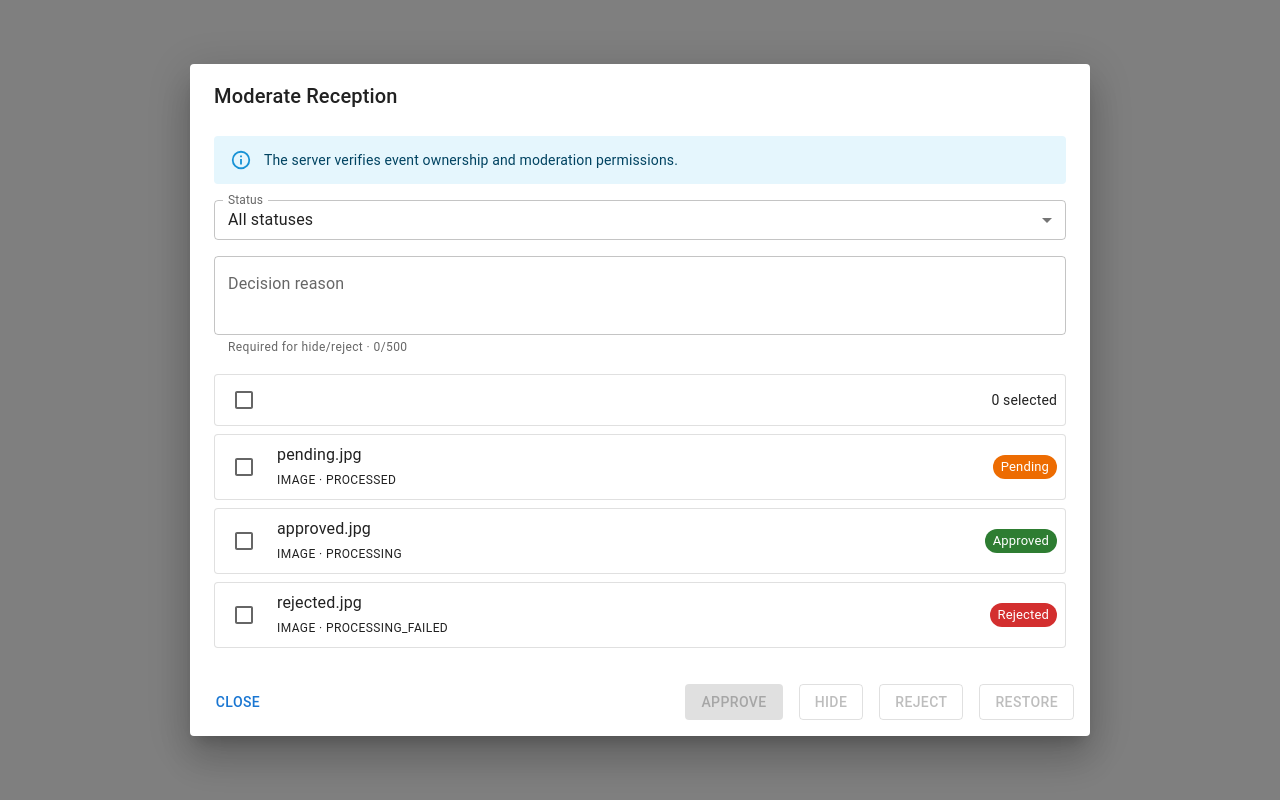
Test: ModerationPanel › keeps the confirmation open and reports action failures
Check: the text "pending.jpg" is shown, box 277,445 -> 362,464
What coordinates should you click on to do the following:
click the checkbox named "Select pending.jpg"
I would click on:
 (244, 467)
Its box is 232,455 -> 256,479.
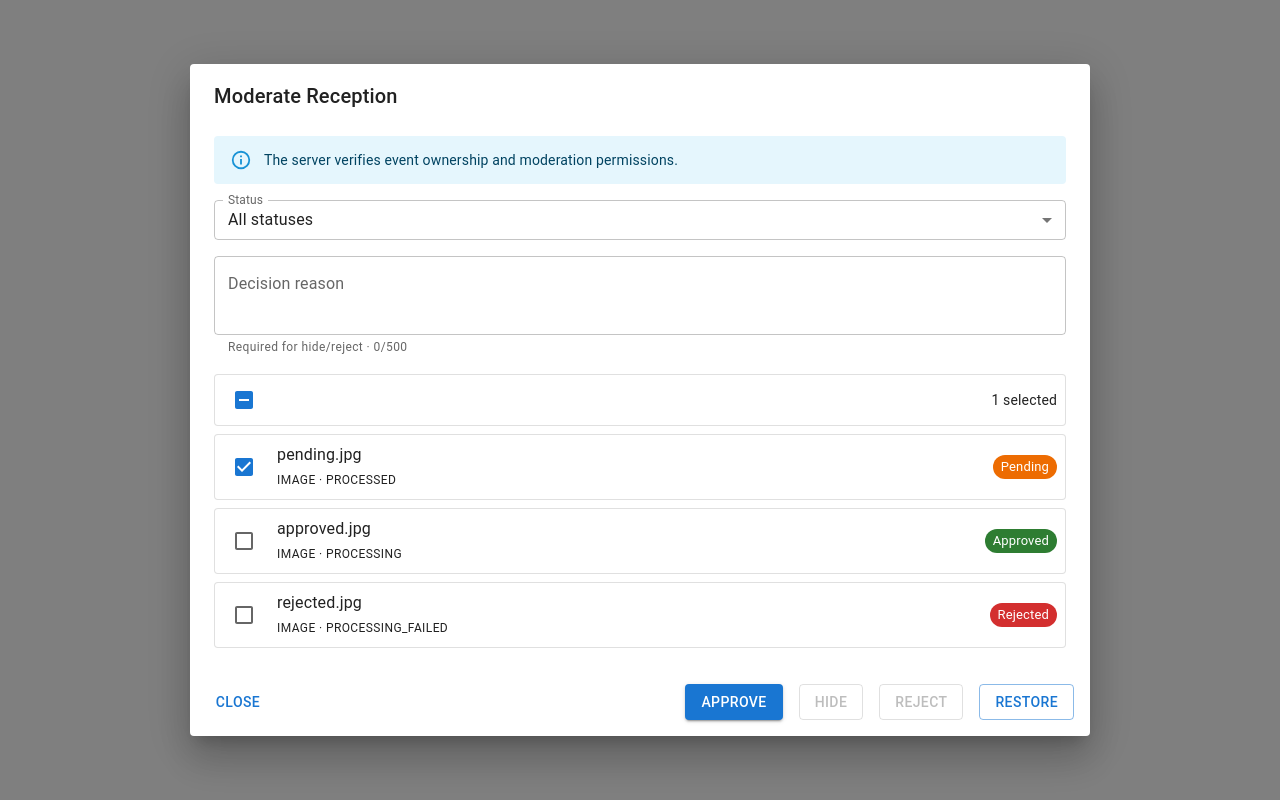
What coordinates should you click on to do the following:
click the button "Approve"
I would click on:
 (734, 702)
Its box is 685,684 -> 783,720.
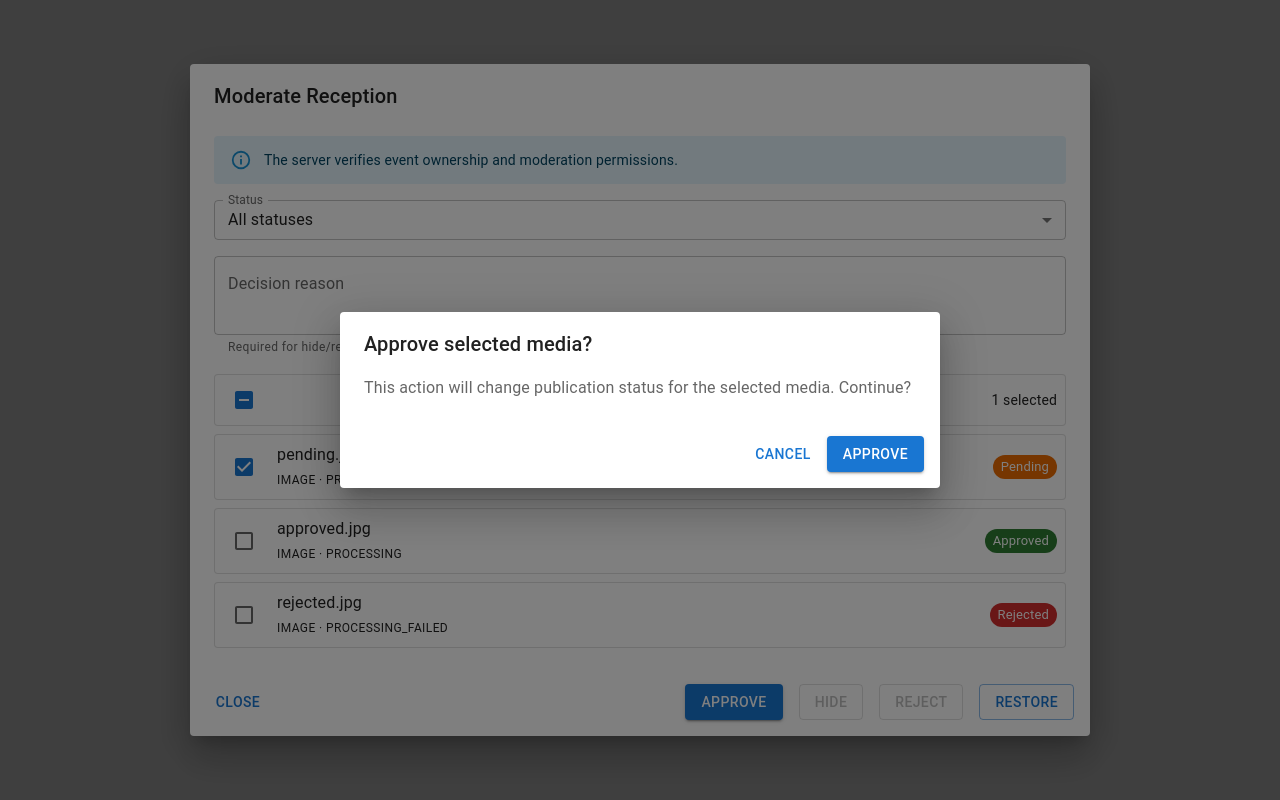
What coordinates should you click on to do the following:
click the button "Approve"
I would click on:
 (875, 454)
Its box is 827,436 -> 924,472.
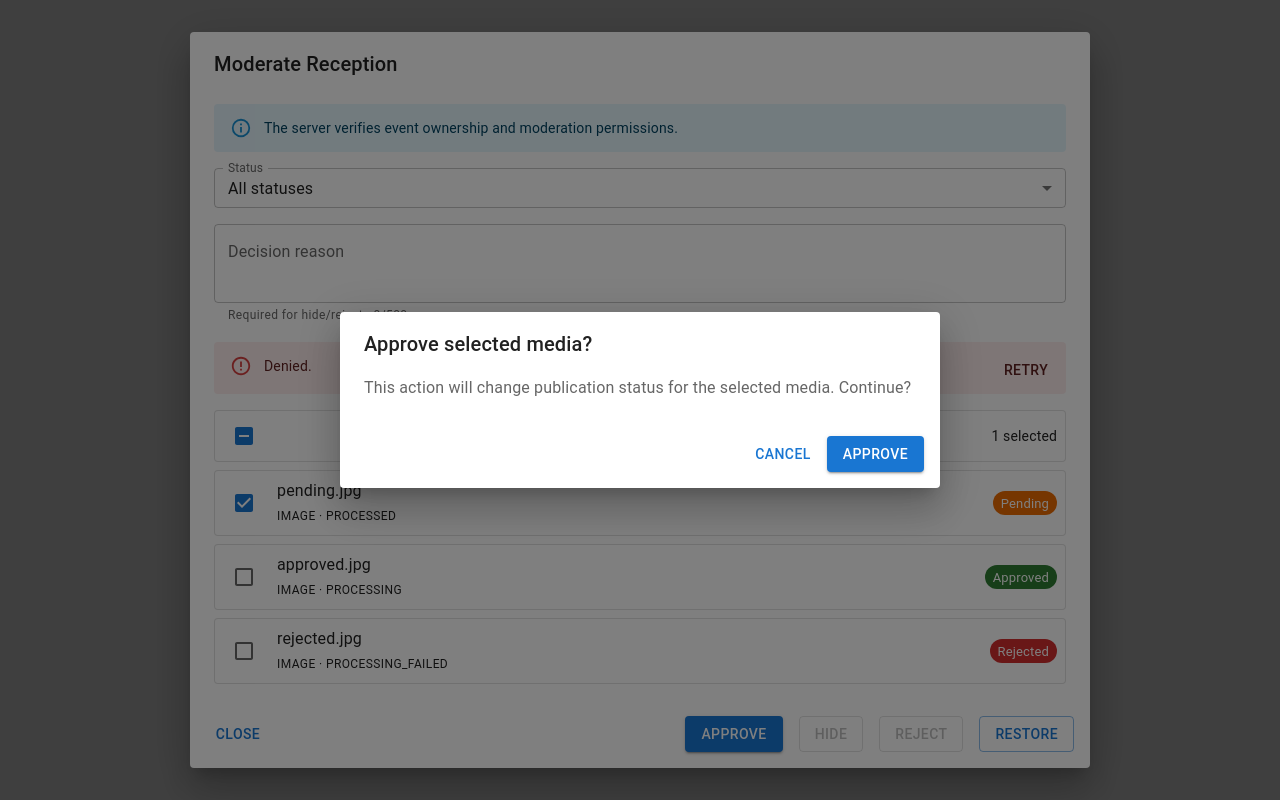
Check: the dialog "Approve selected media?" is shown, box 340,312 -> 940,488
Check: the text "Denied." is shown, box 264,358 -> 312,374
